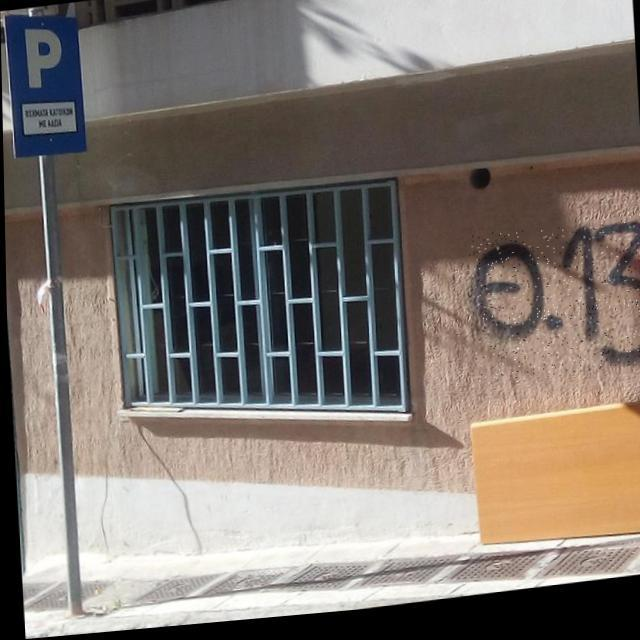-: (466, 225, 640, 394)
